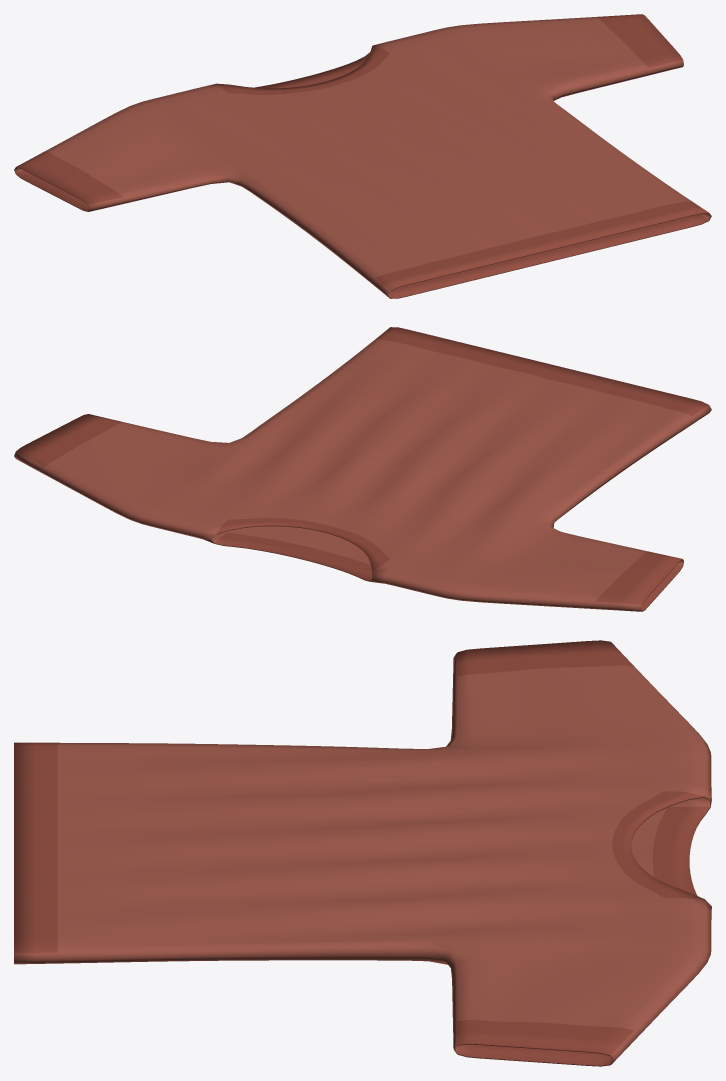
3 views of the same model, one above another, from view 1: azimuth 30°, elevation 25°; view 2: azimuth 150°, elevation 25°; view 3: azimuth 270°, elevation 25° (orthographic). The views are drawn at different scales.
Visible parts, largest first — view 1: Complete open short-sleeved fabric garment; view 2: Complete open short-sleeved fabric garment; view 3: Complete open short-sleeved fabric garment.
Boxes of the visible parts, box(x1,y1,x2,y2) form: Complete open short-sleeved fabric garment: box(14, 14, 711, 298); Complete open short-sleeved fabric garment: box(14, 327, 711, 611); Complete open short-sleeved fabric garment: box(14, 640, 711, 1066).
Size of the model in its own units: 0.9262 by 0.0245 by 0.6596.
